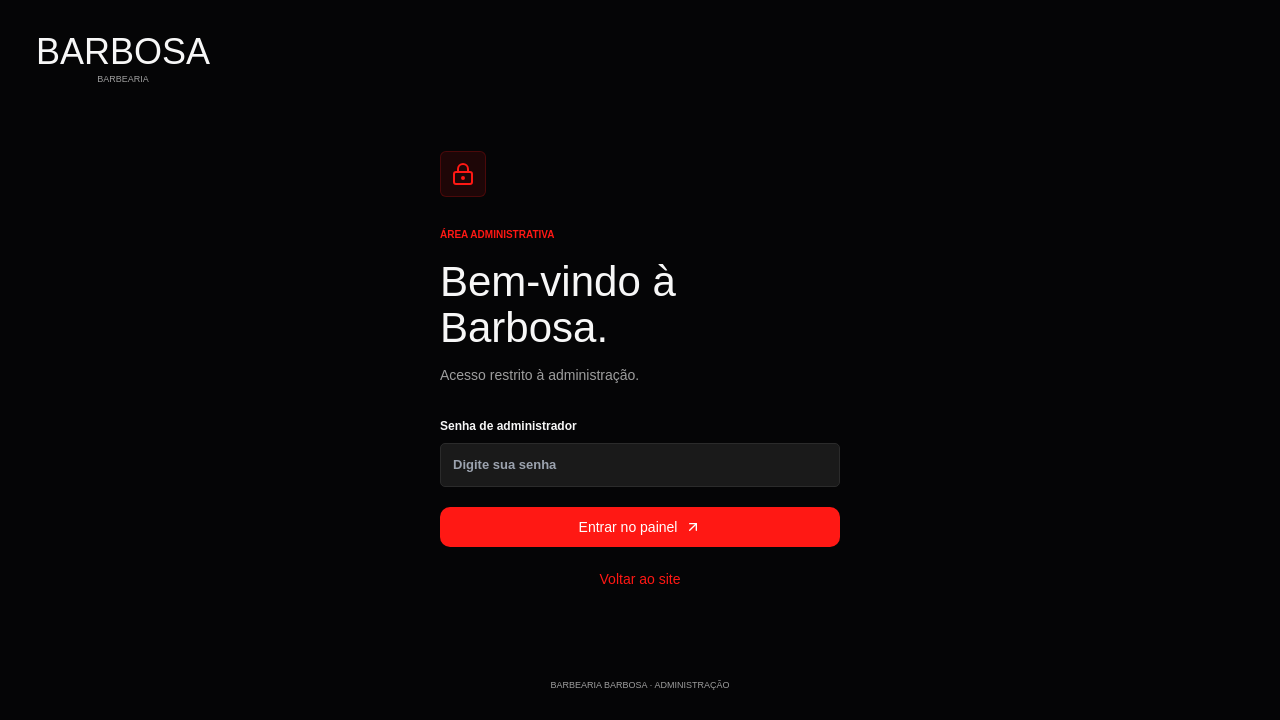
Scenario: Protected admin loading › opens only after validation without waiting for the agenda and ignores late reads after logout
In the password field labelled "Senha de administrador": x=640, y=465 [440,443,840,487], type "example-admin-secret"
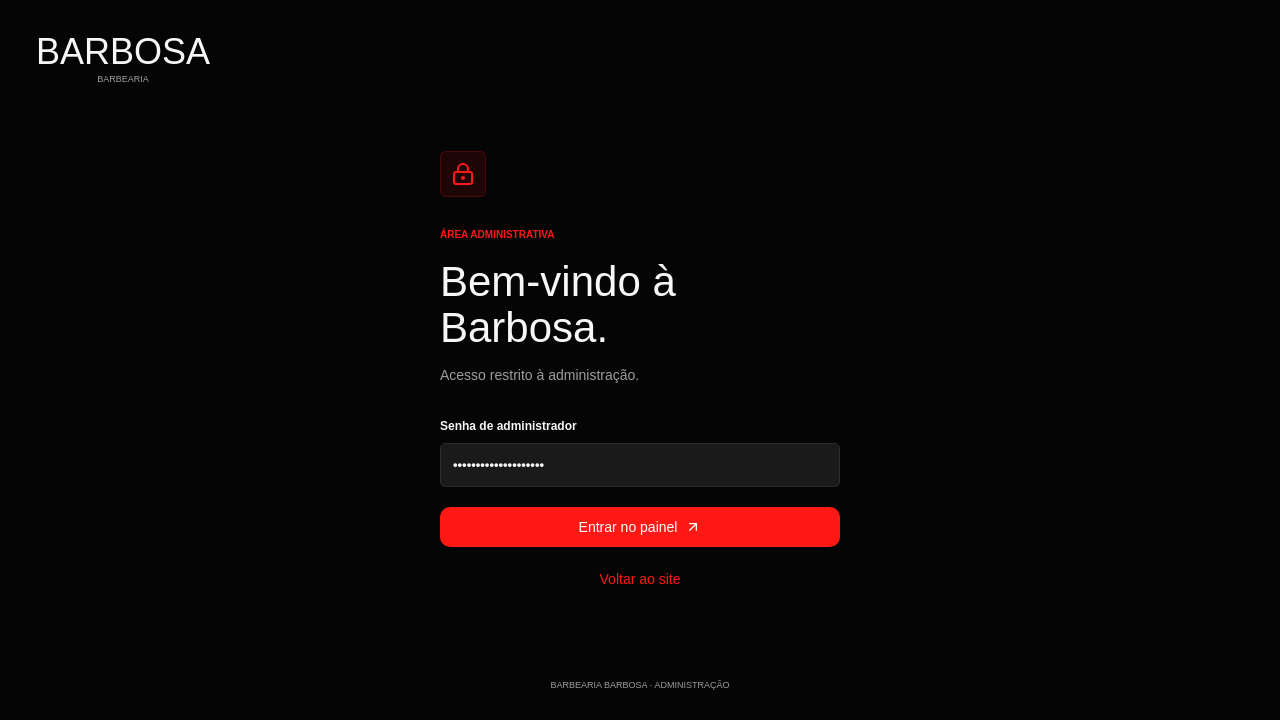
Click the button "Entrar no painel": x=640, y=527 [440,507,840,547]
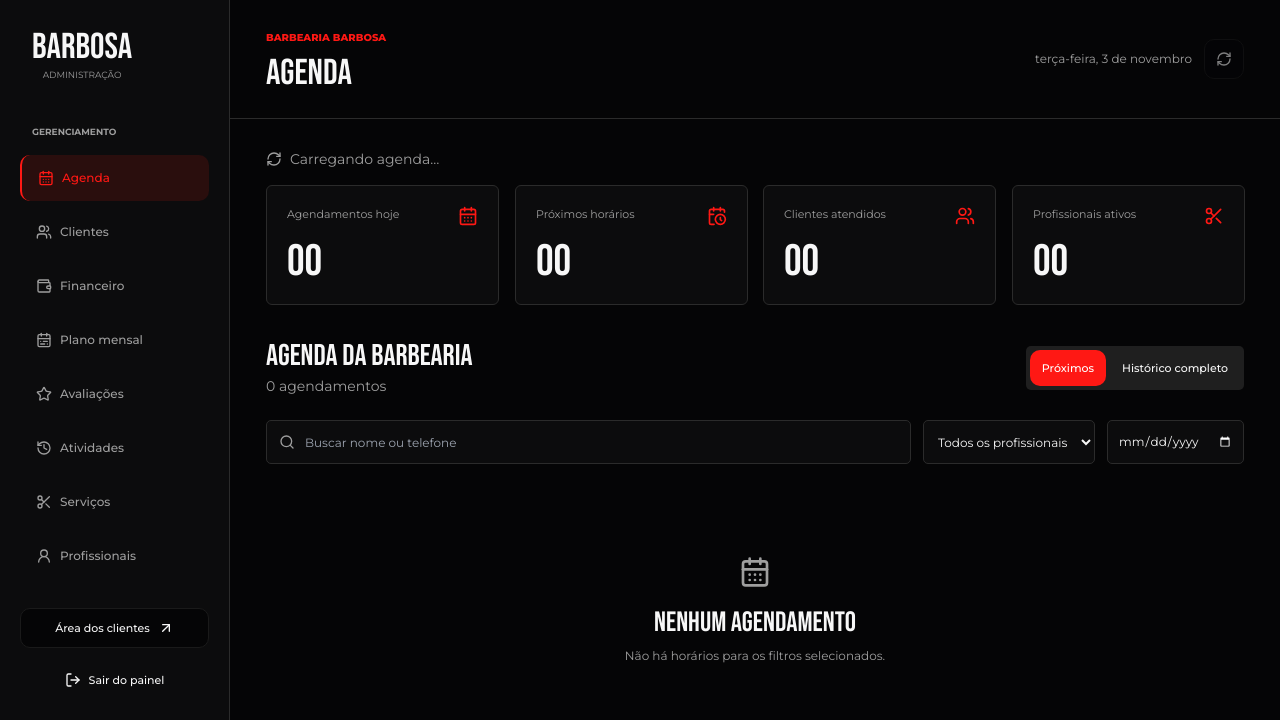
Expected: the navigation bar named "Menu administrativo" is shown, [20,155,209,579]
Click the button "Sair do painel": x=114, y=680 [20,660,209,700]
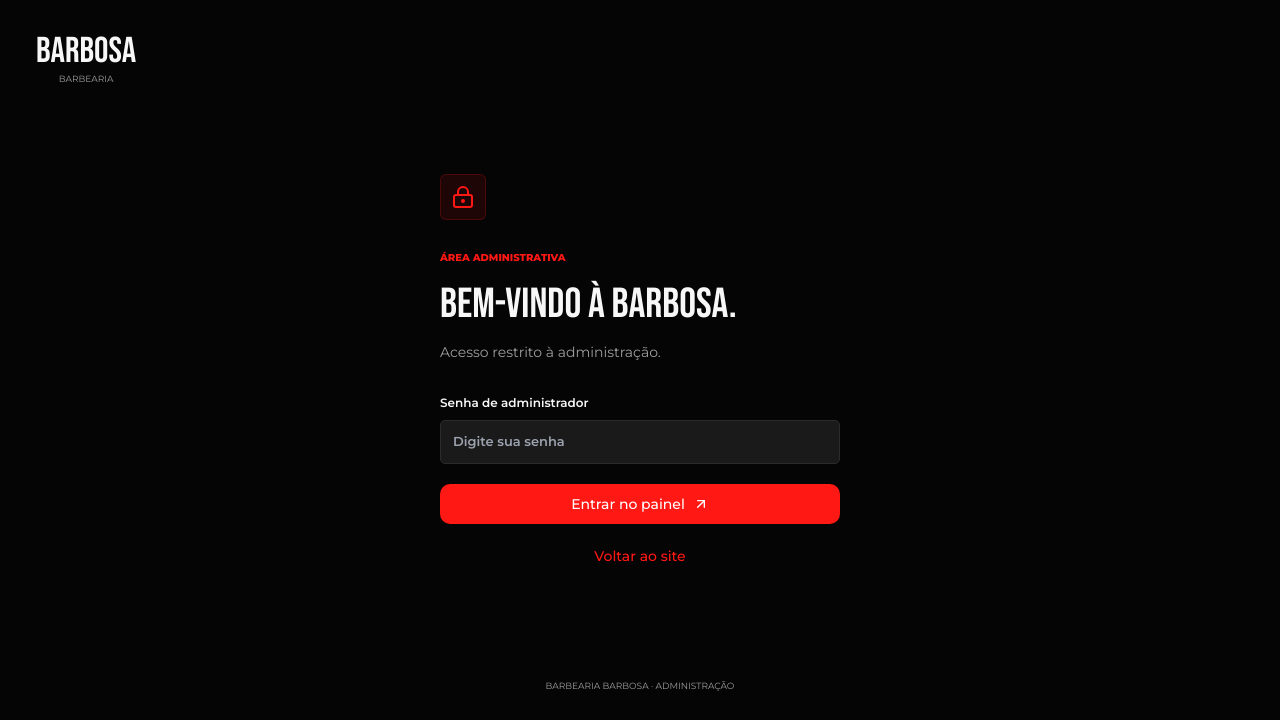
Expected: the button "Entrar no painel" is shown, [440,484,840,524]
